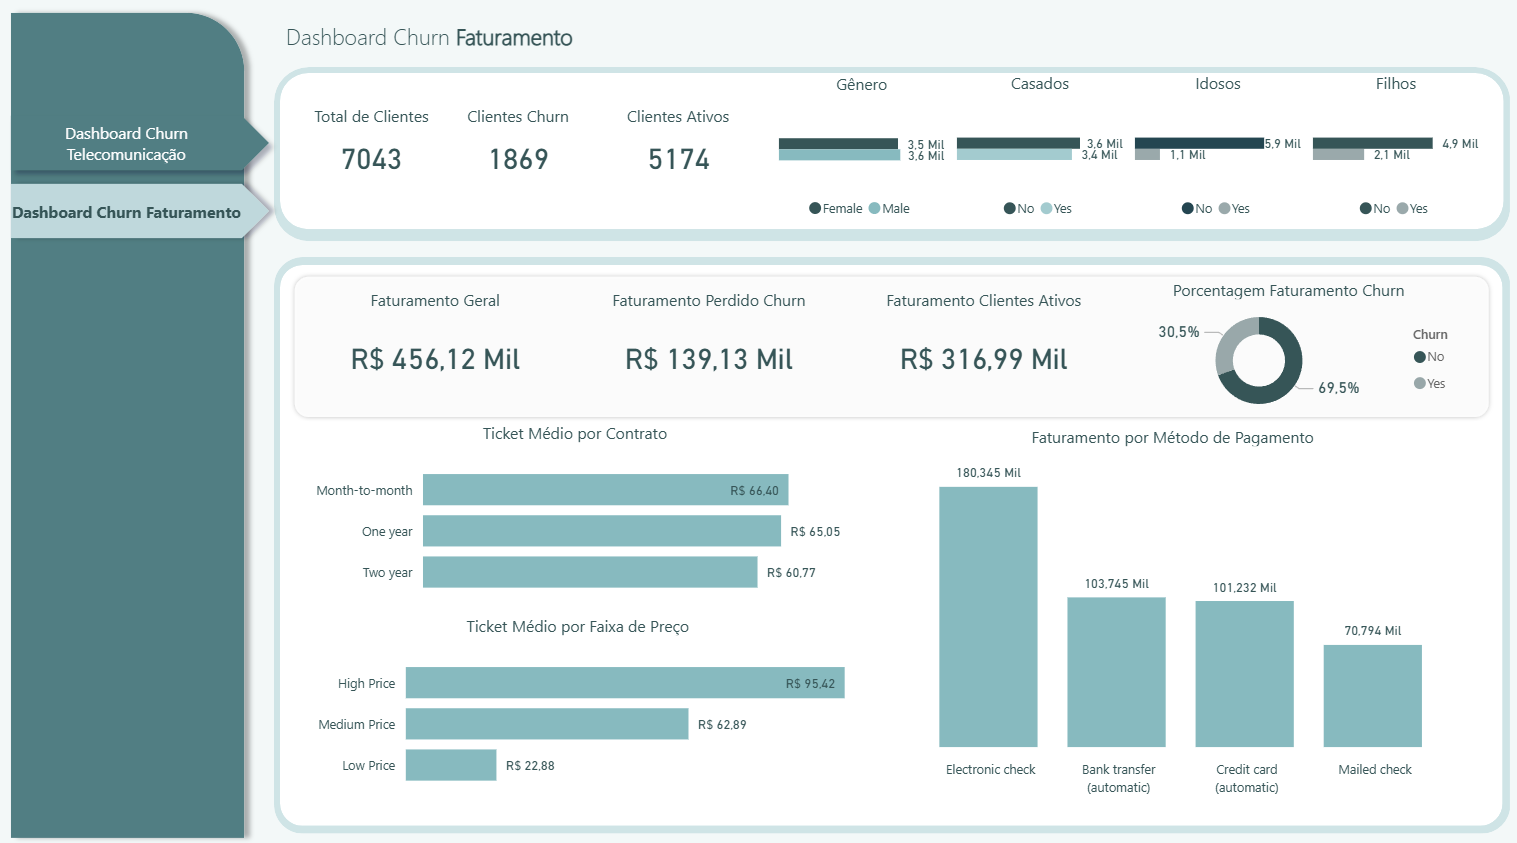

The dashboard page shown, as its layout file describes it:
{"tool":"powerbi","page":{"name":"Dashboard Churn Faturamento","canvas":[1280,720],"ordinal":1},"visuals":[{"type":"shape","box":[0,6.3,214.9,713.7],"z":0},{"type":"textbox","box":[236.4,17.3,315.5,43.6],"z":1000},{"type":"shape","box":[231,60.9,1042.4,146.9],"z":2000},{"type":"shape","box":[231,221.2,1042.4,486.3],"z":3000},{"type":"shape","box":[236.4,65.4,1031.6,131.6],"z":4000},{"type":"shape","box":[236.4,227.5,1030.7,472.8],"z":5000},{"type":"shape","box":[244.5,233.7,1014.6,126.3],"z":6000},{"type":"card","title":"Faturamento Geral","fields":{"Values":["Sum(Telco-Customer-Churn.MonthlyCharges)"]},"box":[254.3,248.1,224.8,98.5],"z":7000},{"type":"barChart","title":"Ticket Médio por Contrato","fields":{"Category":["Telco-Customer-Churn.Contract"],"Y":["Avg(Telco-Customer-Churn.MonthlyCharges)"]},"box":[254.3,360,460.3,160],"z":8000},{"type":"columnChart","title":"Faturamento por Método de Pagamento","fields":{"Category":["Telco-Customer-Churn.PaymentMethod"],"Y":["Sum(Telco-Customer-Churn.MonthlyCharges)"]},"box":[727.2,363.6,523.9,319.7],"z":9000},{"type":"clusteredBarChart","title":"Ticket Médio por Faixa de Preço","fields":{"Category":["Telco-Customer-Churn.faixa_price"],"Y":["Avg(Telco-Customer-Churn.MonthlyCharges)"]},"box":[257,523,460,160],"z":10000},{"type":"card","title":"Faturamento Perdido Churn","fields":{"Values":["Sum(Telco-Customer-Churn.MonthlyCharges)"]},"box":[484.5,248.1,225.7,98.5],"z":11000},{"type":"donutChart","title":"Porcentagem Faturamento Churn","fields":{"Y":["Sum(Telco-Customer-Churn.MonthlyCharges)"],"Category":["Telco-Customer-Churn.Churn"]},"box":[926.3,239.8,319.7,120.4],"z":12000},{"type":"card","title":"Faturamento Clientes Ativos","fields":{"Values":["Sum(Telco-Customer-Churn.MonthlyCharges)"]},"box":[717.3,248.1,223.9,98.5],"z":13000},{"type":"card","title":"Total de Clientes ","fields":{"Values":["CountNonNull(Telco-Customer-Churn.customerID)"]},"box":[257,93.1,111.9,72.5],"z":14000},{"type":"clusteredBarChart","title":"Gênero","fields":{"Series":["Telco-Customer-Churn.gender"],"Y":["CountNonNull(Telco-Customer-Churn.customerID)"]},"box":[651.9,65.4,149.6,131.6],"z":15000},{"type":"clusteredBarChart","title":"Casados","fields":{"Y":["CountNonNull(Telco-Customer-Churn.customerID)"],"Series":["Telco-Customer-Churn.Partner"]},"box":[801.5,64.6,150,132.5],"z":16000},{"type":"clusteredBarChart","title":"Idosos","fields":{"Y":["CountNonNull(Telco-Customer-Churn.customerID)"],"Series":["Telco-Customer-Churn.yes_senior"]},"box":[951.5,64.6,150,132.5],"z":17000},{"type":"clusteredBarChart","title":"Filhos","fields":{"Y":["CountNonNull(Telco-Customer-Churn.customerID)"],"Series":["Telco-Customer-Churn.Dependents"]},"box":[1101.5,64.6,150,132.5],"z":18000},{"type":"card","title":"Clientes Churn","fields":{"Values":["CountNonNull(Telco-Customer-Churn.customerID)"]},"box":[369,93.1,135,71.6],"z":19000},{"type":"card","title":"Clientes Ativos","fields":{"Values":["CountNonNull(Telco-Customer-Churn.customerID)"]},"box":[504.2,93.1,135.2,71.6],"z":20000},{"type":"pageNavigator","box":[0,93.1,236.4,64.5],"z":21000},{"type":"pageNavigator","box":[0,150.4,236.4,64.5],"z":22000}]}

Visuals, with their boxes in screenshot pixels (x1, y1, x2, y2), scaled from the page's 1280x720 canvas onto the 1517x843 screenshot:
shape: 0/7/255/842
textbox: 280/20/654/71
shape: 274/71/1509/243
shape: 274/259/1509/828
shape: 280/77/1503/231
shape: 280/266/1502/820
shape: 290/274/1492/422
"Faturamento Geral" card: 301/290/568/406
"Ticket Médio por Contrato" barChart: 301/422/847/609
"Faturamento por Método de Pagamento" columnChart: 862/426/1483/800
"Ticket Médio por Faixa de Preço" clusteredBarChart: 305/612/850/800
"Faturamento Perdido Churn" card: 574/290/842/406
"Porcentagem Faturamento Churn" donutChart: 1098/281/1477/422
"Faturamento Clientes Ativos" card: 850/290/1115/406
"Total de Clientes " card: 305/109/437/194
"Gênero" clusteredBarChart: 773/77/950/231
"Casados" clusteredBarChart: 950/76/1128/231
"Idosos" clusteredBarChart: 1128/76/1305/231
"Filhos" clusteredBarChart: 1305/76/1483/231
"Clientes Churn" card: 437/109/597/193
"Clientes Ativos" card: 598/109/758/193
pageNavigator: 0/109/280/185
pageNavigator: 0/176/280/252
